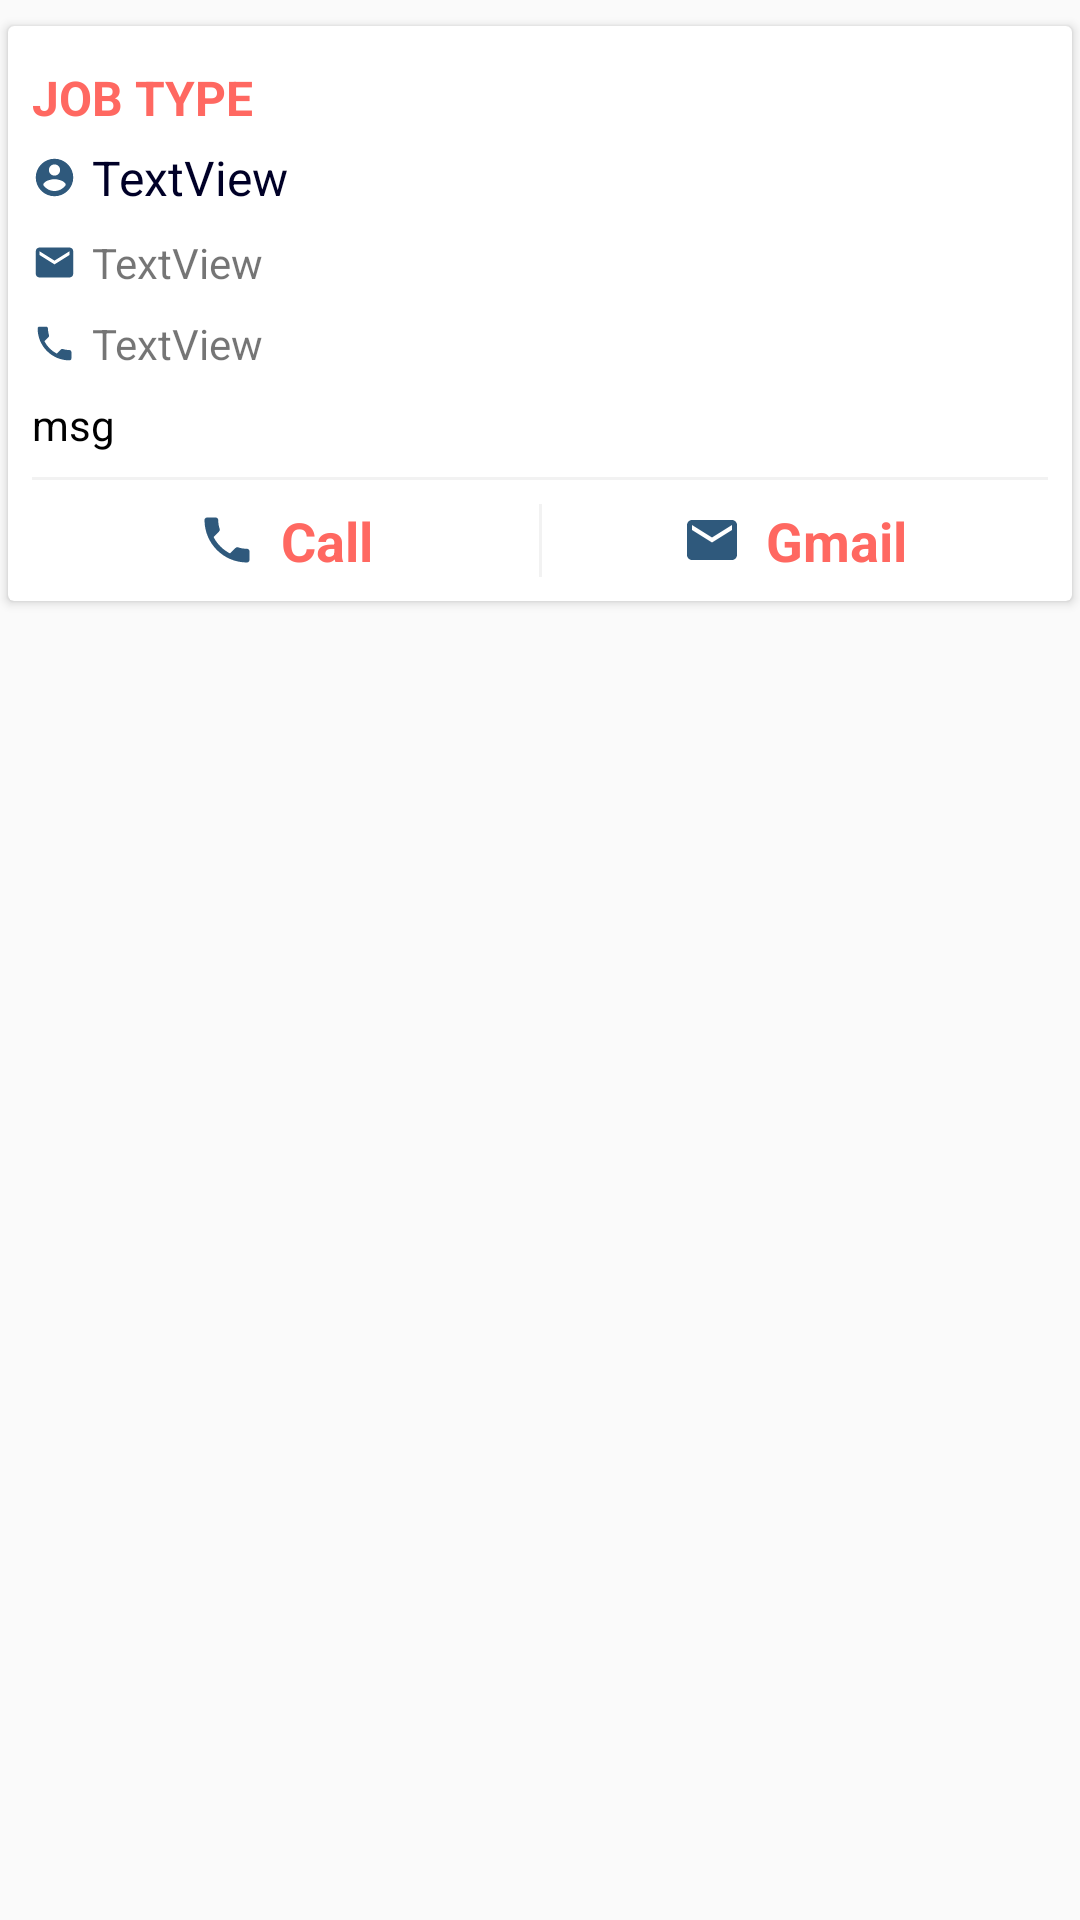

Named icons in this screenshot (1080x1920) and their bounding boxes, rect(x1, y1, x2, y2):
account circle: rect(35, 158, 74, 197)
email: rect(35, 247, 74, 278), rect(687, 520, 737, 560)
phone: rect(37, 326, 72, 361), rect(204, 517, 250, 563)
